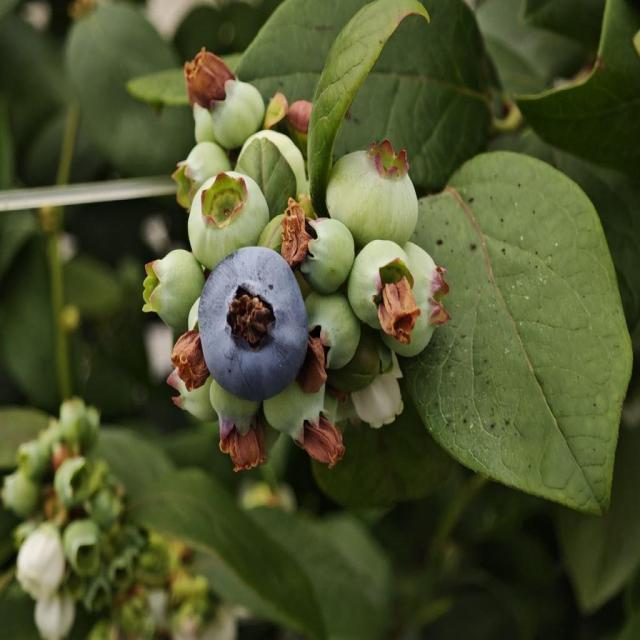RipeBlueBerry: (197, 247, 308, 401)
UnripeBlueBerry: (326, 141, 420, 243)
